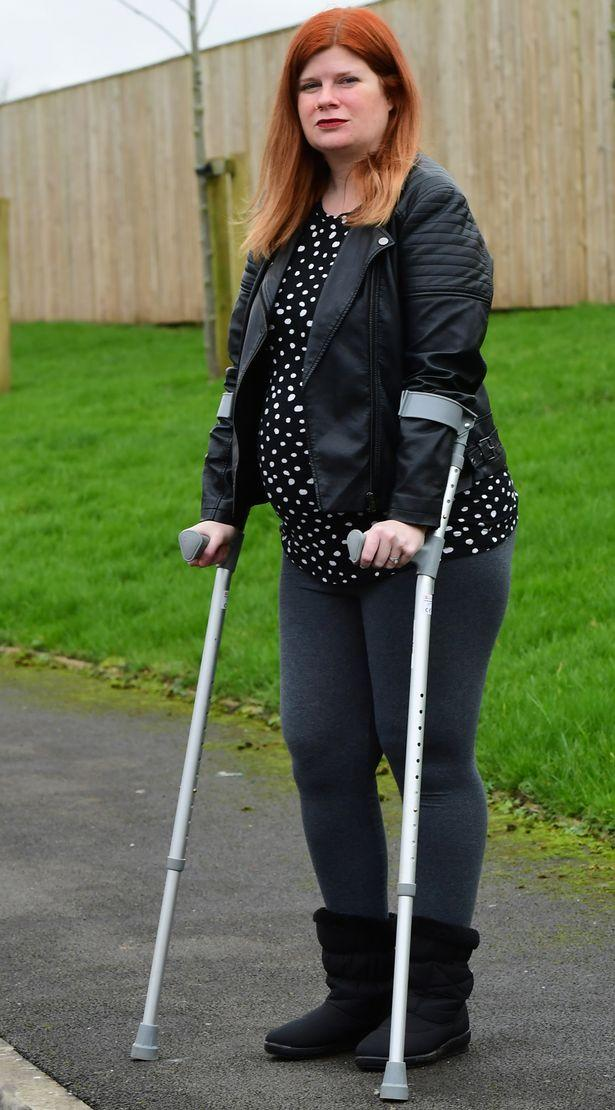crutches: (130, 7, 519, 1101)
